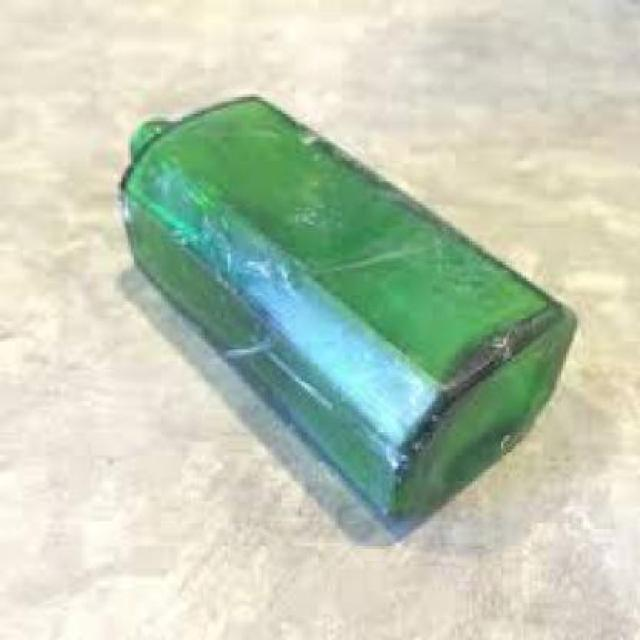GLASS: (113, 94, 575, 515)
